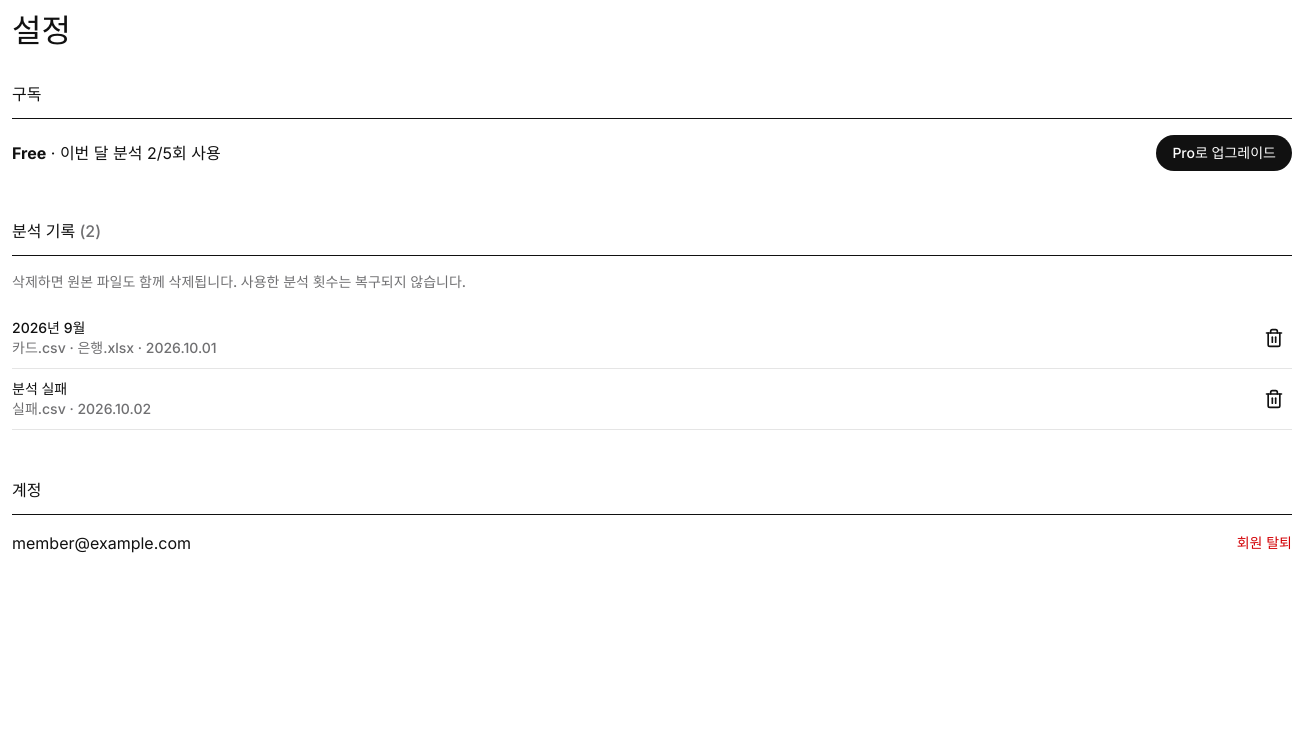
AnalysisHistory › network 오류도 행을 보존하고 원문을 표시하지 않는다
The image size is (1304, 732).
What coordinates should you click on to do the following:
click the button named "2026년 9월 삭제 (카드.csv, 은행.xlsx)"
I would click on:
 (1274, 338)
Its box is [1256,320,1292,356].
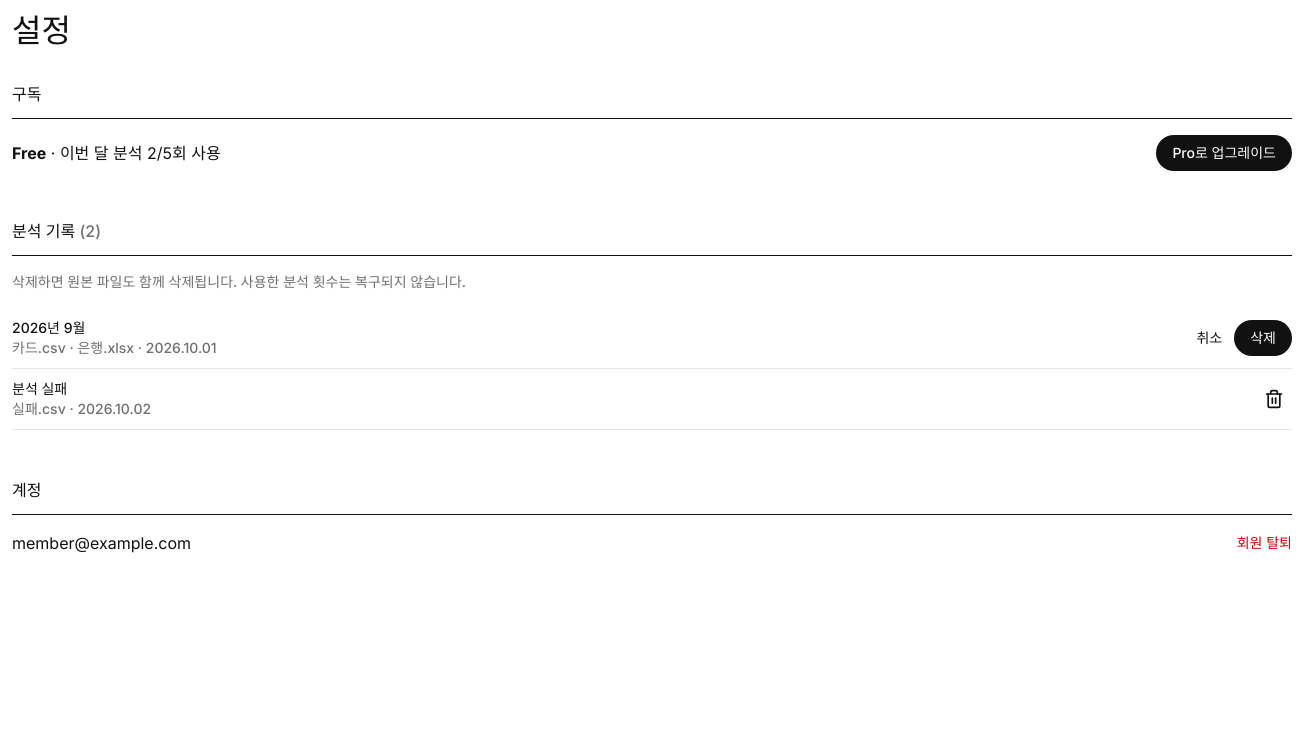
What coordinates should you click on to do the following:
click the button "삭제"
I would click on:
 (1263, 338)
Its box is [1234,320,1292,356].
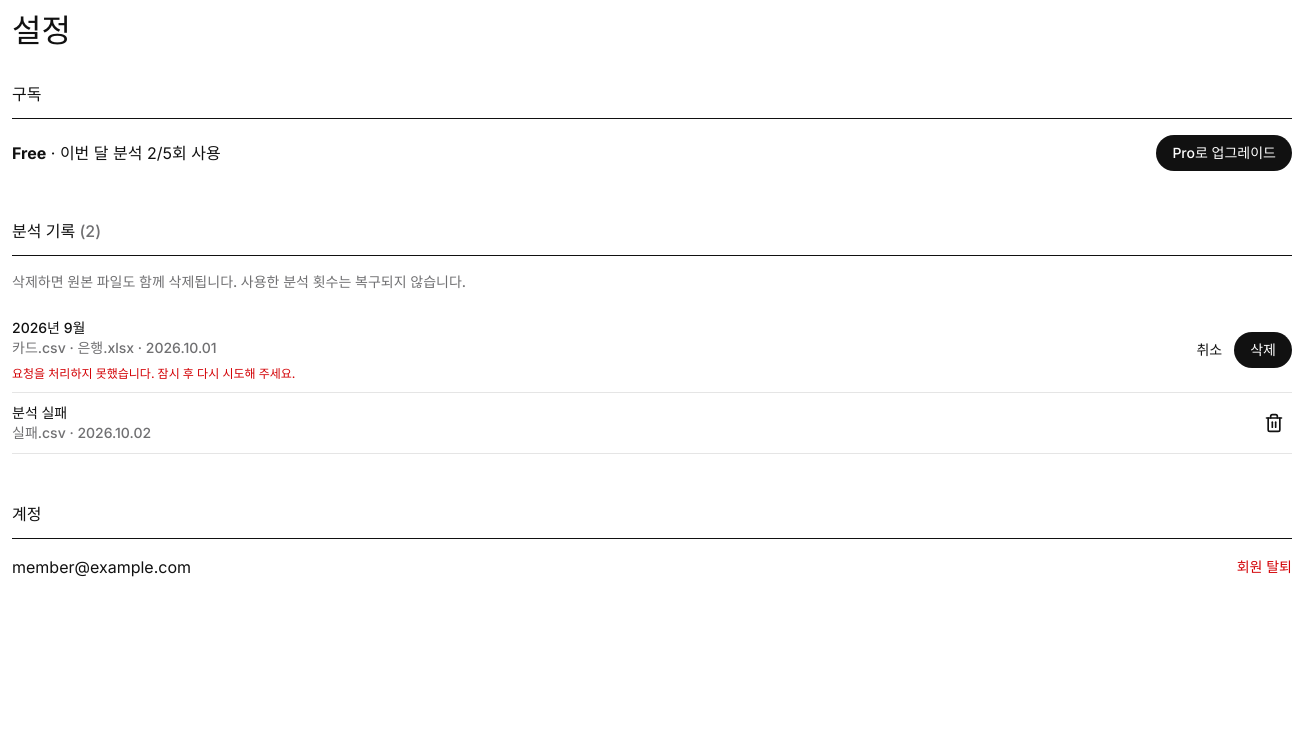
Expected: the text "2026년 9월" is shown, [12,319,85,336]
Now the message reads "요청을 처리하지 못했습니다. 잠시 후 다시 시도해 주세요.", box [12,366,296,381]
